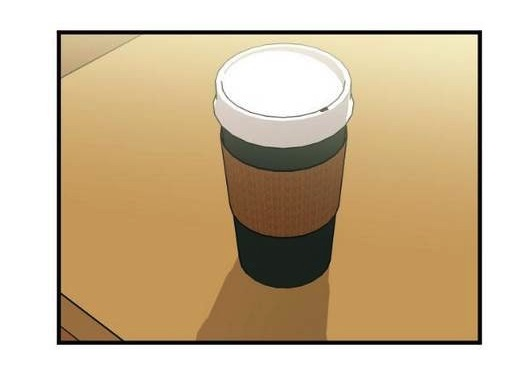coffee: (209, 39, 358, 291)
cup: (207, 42, 357, 290)
